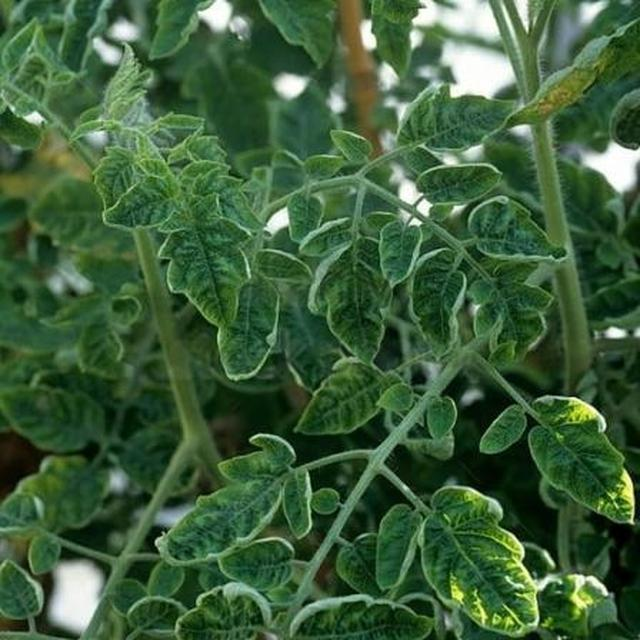Yellow Leaf Curl Virus: (67, 62, 640, 640)
